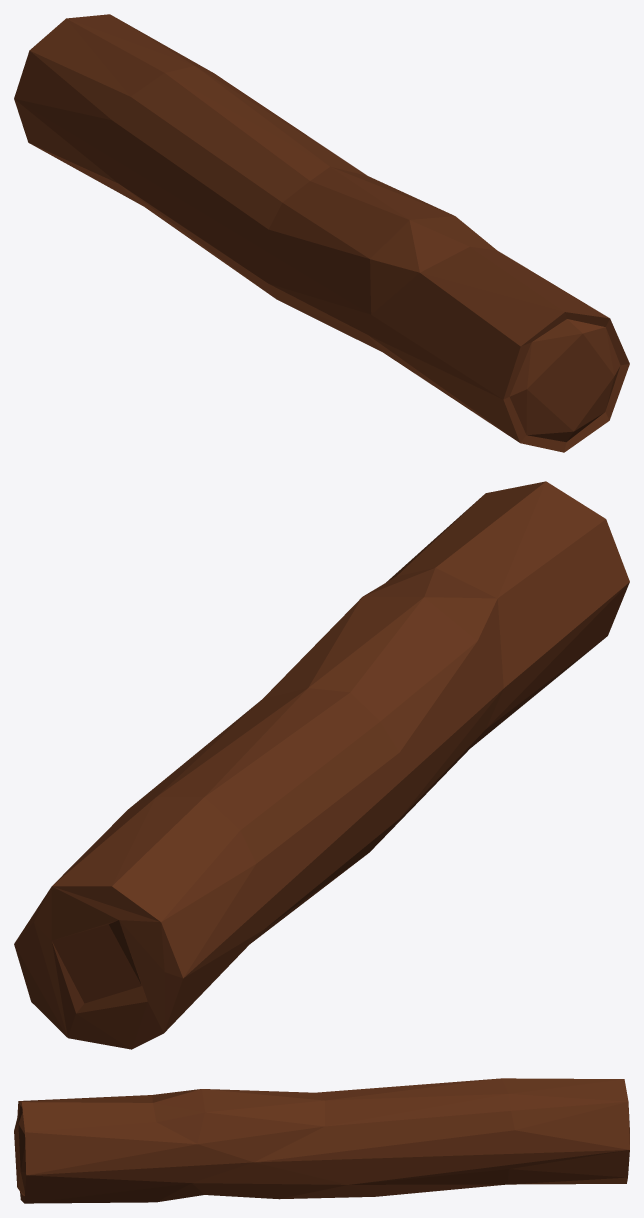
File: Odun.fbx
3 views of the same model, one above another, from view 1: azimuth 30°, elevation 25°; view 2: azimuth 150°, elevation 25°; view 3: azimuth 270°, elevation 25° (orthographic). The views are drawn at different scales.
Parts seen in each view (by area): view 1: Cylinder; view 2: Cylinder; view 3: Cylinder.
Part boxes in pixels (box(x1,y1,x2,y2)): Cylinder: box(14, 14, 629, 452); Cylinder: box(14, 481, 629, 1049); Cylinder: box(14, 1078, 629, 1203).
Bounding box in the file's own units: 50.87 × 37.19 × 198.
